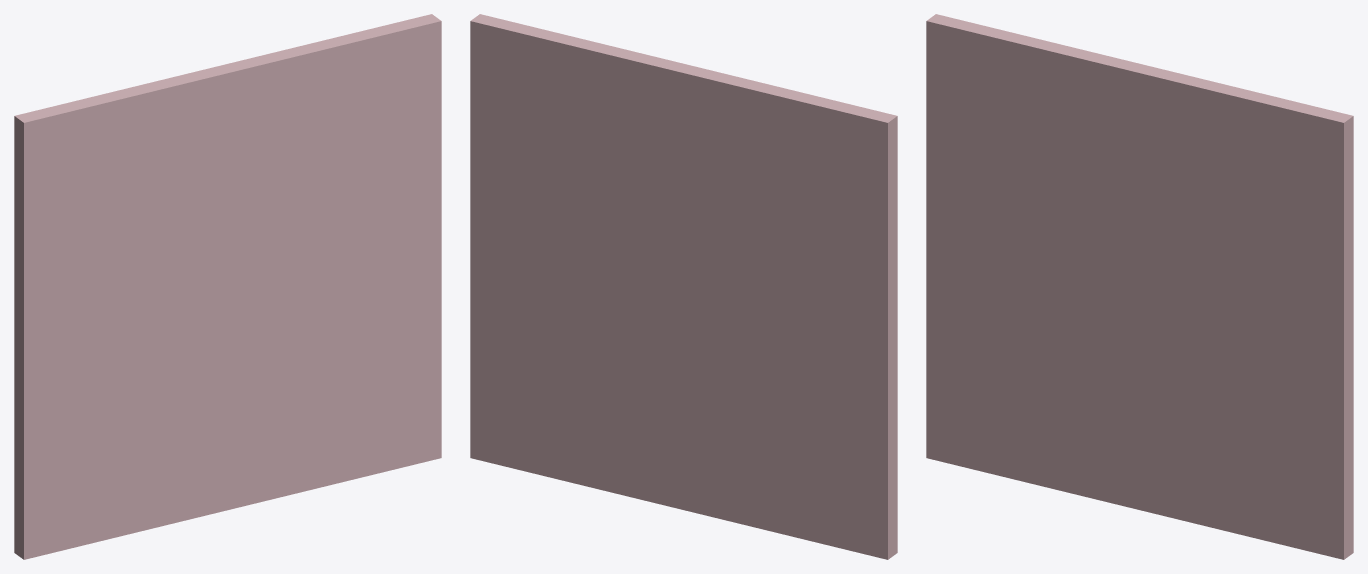
The model's file is board.glb.
The picture shows the model from 3 angles, left to right: view 1: azimuth 30°, elevation 25°; view 2: azimuth 150°, elevation 25°; view 3: azimuth 330°, elevation 25°; orthographic projection.
Visible parts, largest first — view 1: Substrate_Layer_0; view 2: Substrate_Layer_0; view 3: Substrate_Layer_0.
Part boxes in pixels (box(x1,y1,x2,y2)): Substrate_Layer_0: box(14, 14, 441, 559); Substrate_Layer_0: box(470, 14, 897, 559); Substrate_Layer_0: box(926, 14, 1353, 559).
Size of the model in its own units: 0.05 by 0.05 by 0.002.
